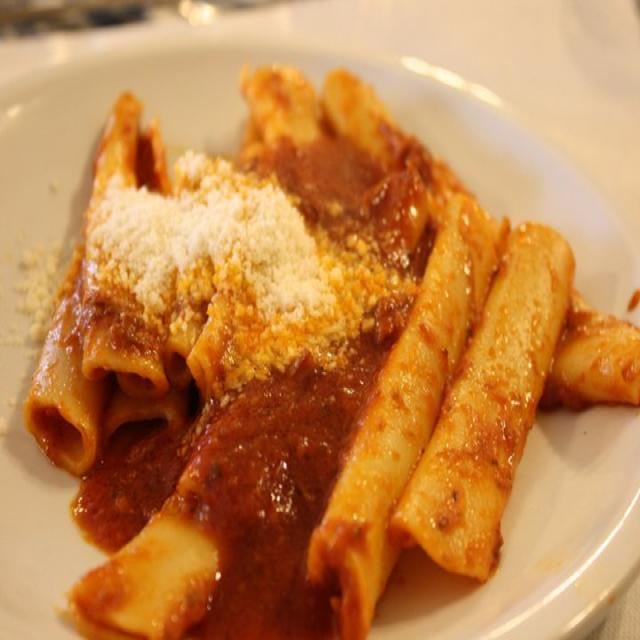Pasta al ragu: (35, 75, 596, 613)
